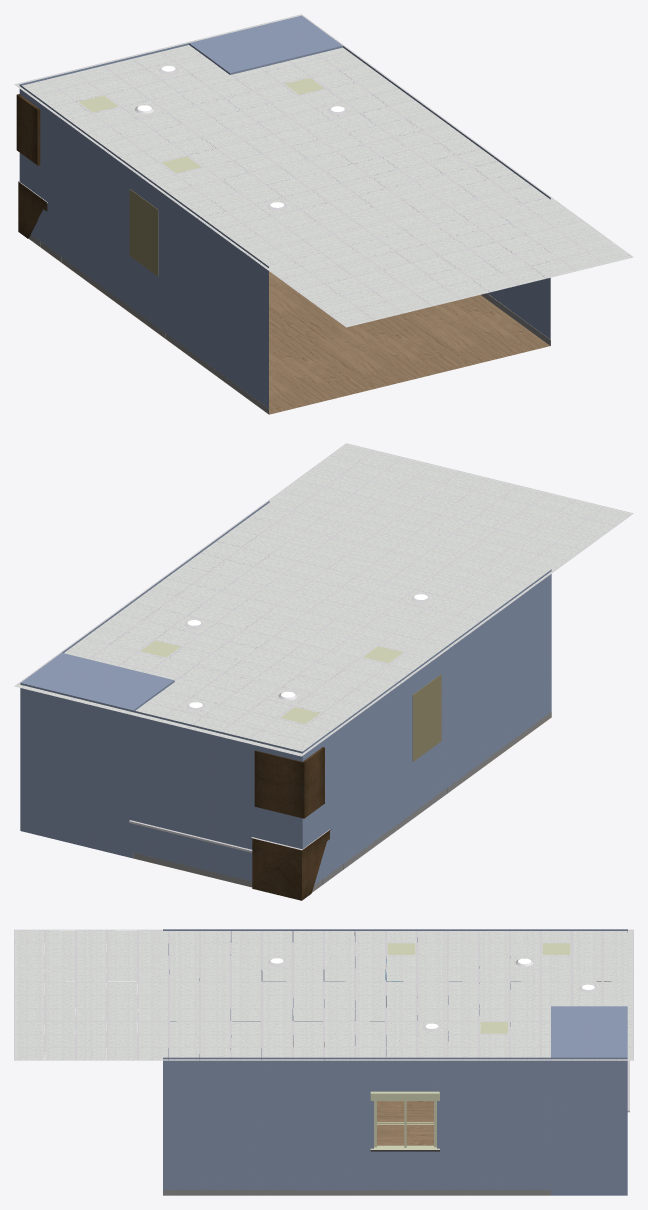
Rendered from office-transformed.glb.
3 views of the same model, one above another, from view 1: azimuth 30°, elevation 25°; view 2: azimuth 150°, elevation 25°; view 3: azimuth 270°, elevation 25° (orthographic). The views are drawn at different scales.
Visible parts, largest first — view 1: Cube; view 2: Cube; view 3: Cube.
Part boxes in pixels (x1,y1,x2,y2): Cube: [14, 14, 633, 414]; Cube: [14, 443, 633, 900]; Cube: [14, 929, 633, 1195].
Size of the model in its own units: 4.31 by 2.12 by 8.59.
Materials: 13 (13 with a texture image).
